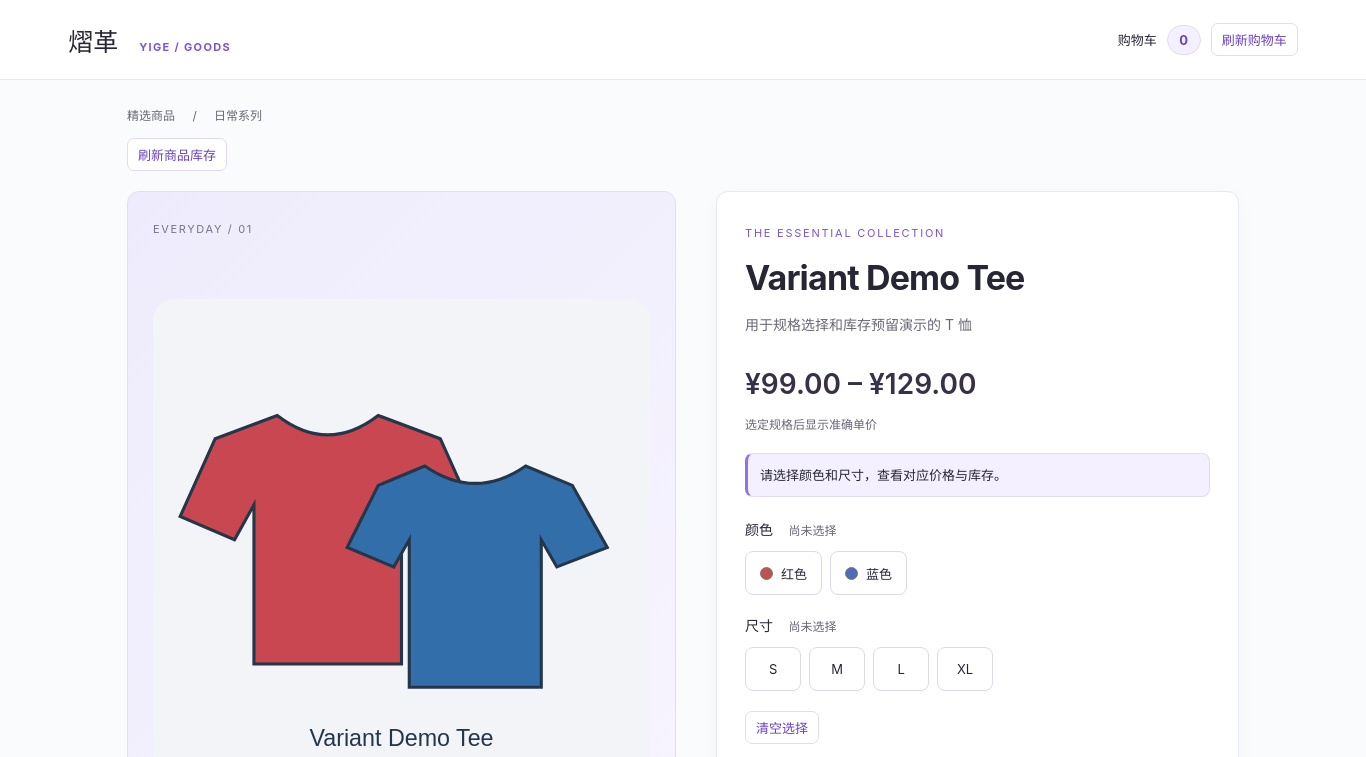
it: FE02/03/04 one SKU drives image, price and stock; candidate disable, clamp, clear
Expected: the heading "Variant Demo Tee" is shown, [745,257,1024,298]
Expected: the text with test id "cart-count" reads "0", [1179,32,1188,48]
Click the button "红色" at (784, 573), box [745,551,822,595]
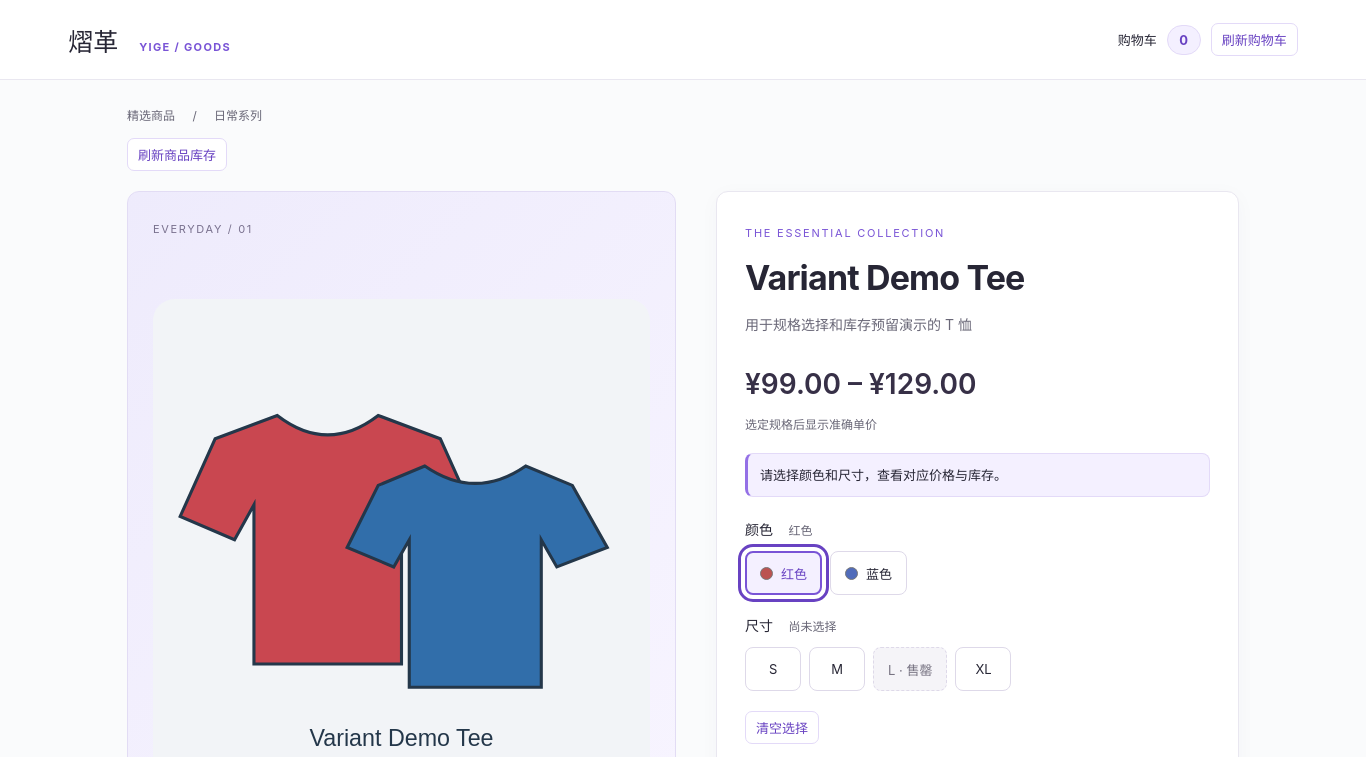
Click the button "S" at (773, 669), box [745,647,801,691]
(page scrolled)
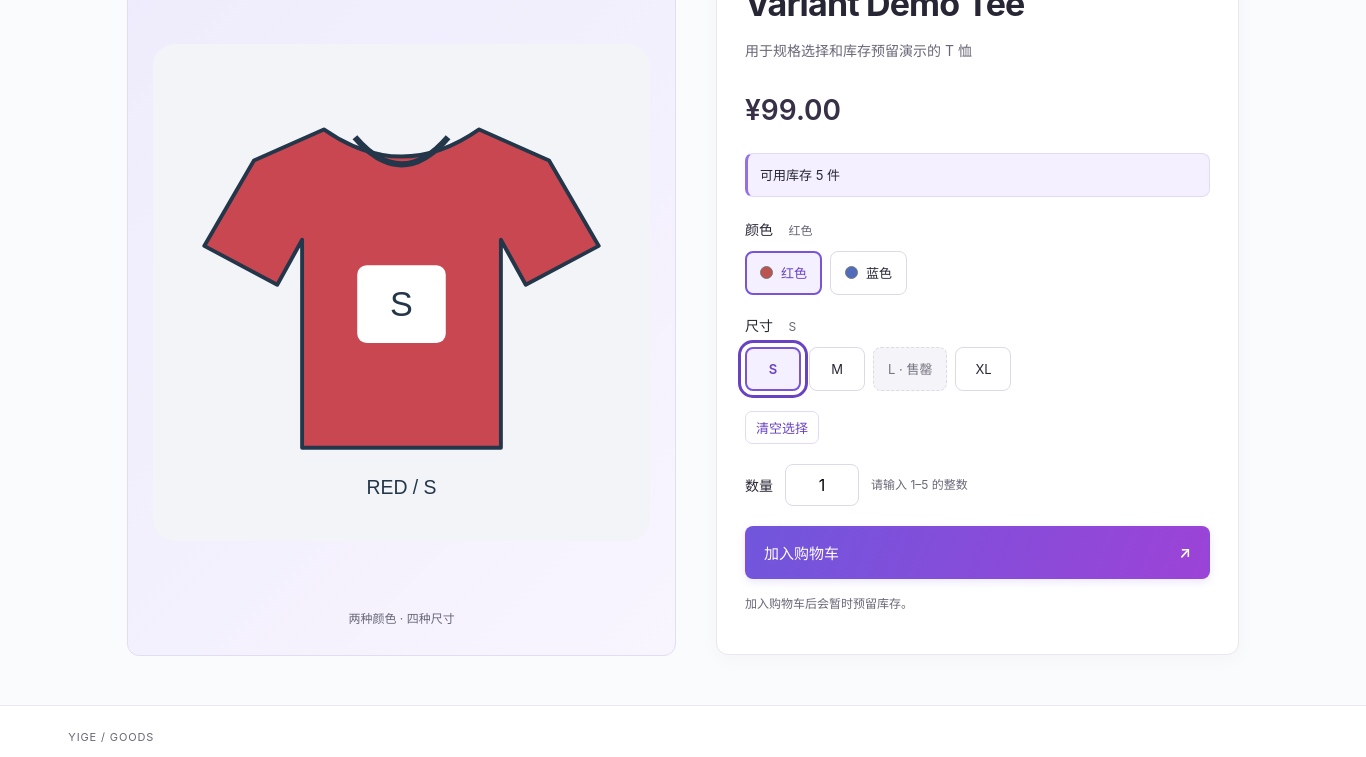
Expected: the text named "价格" shows "99.00", [745,93,841,127]
Expected: the button "L · 售罄" is disabled, [873,347,948,391]
Expected: the text "可用库存 5 件" is shown, [745,153,1210,197]
Replace the text in the field labelled "数量" with "4" at (822, 485), box [785,464,859,506]
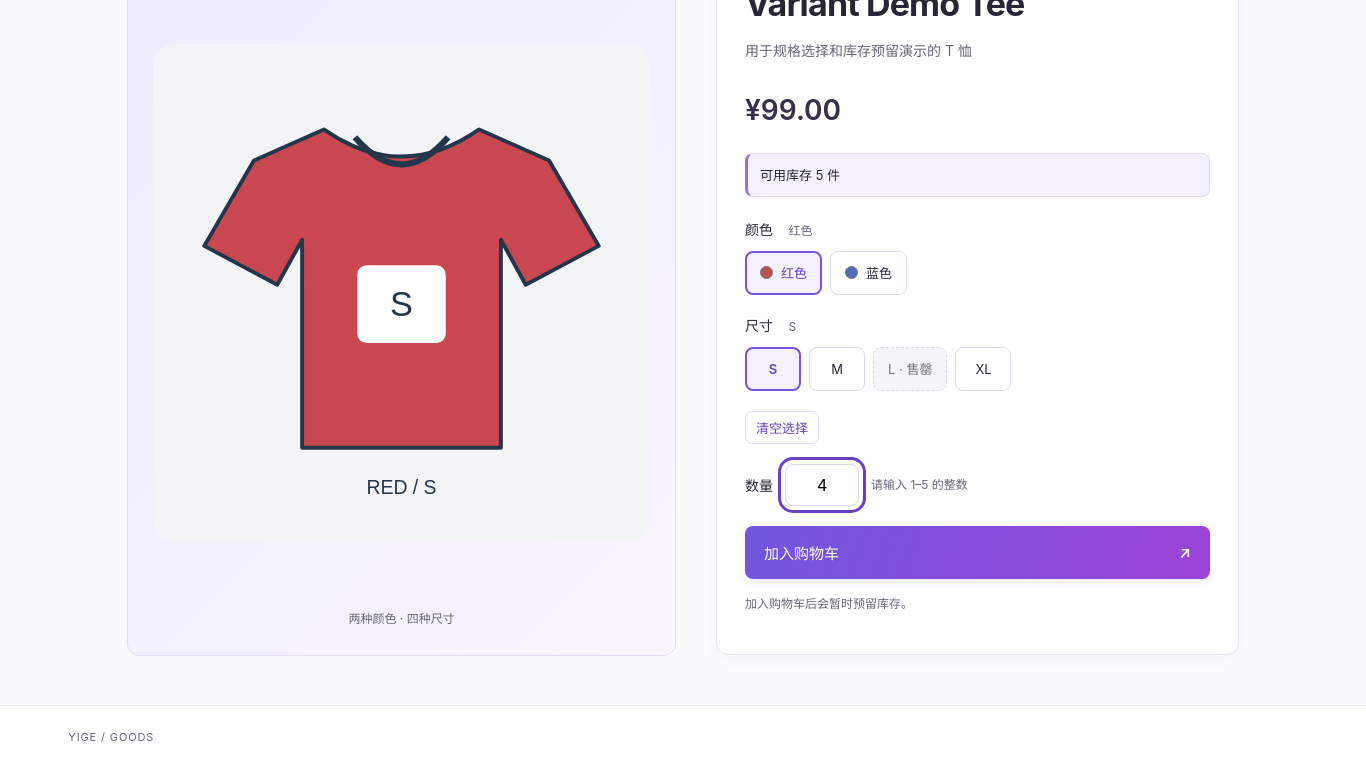
Click the button "M" at (837, 369), box [809,347,865,391]
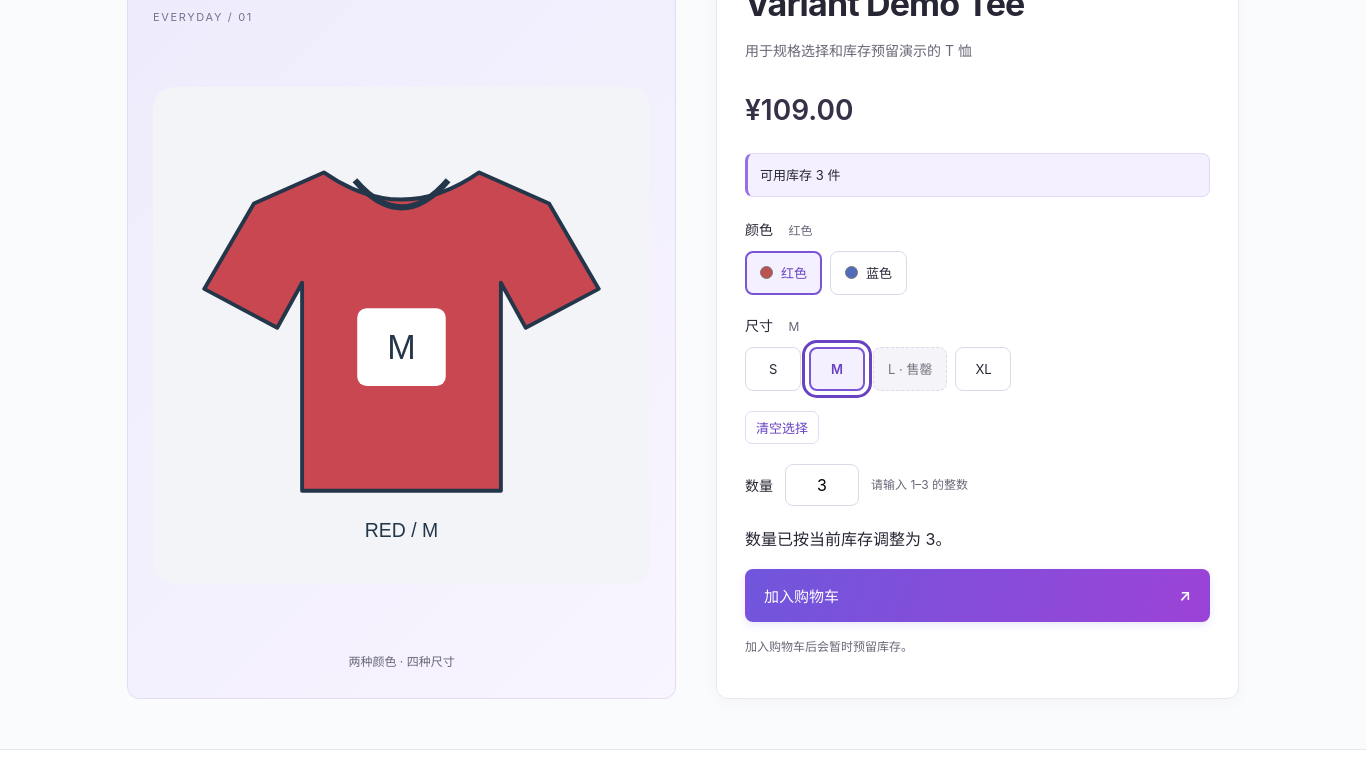
Expected: the field labelled "数量" holds "3", [785,464,859,506]
Expected: the text named "价格" shows "109.00", [745,93,853,127]
Expected: the text "可用库存 3 件" is shown, [745,153,1210,197]
Click the button "蓝色" at (869, 273), box [830,251,907,295]
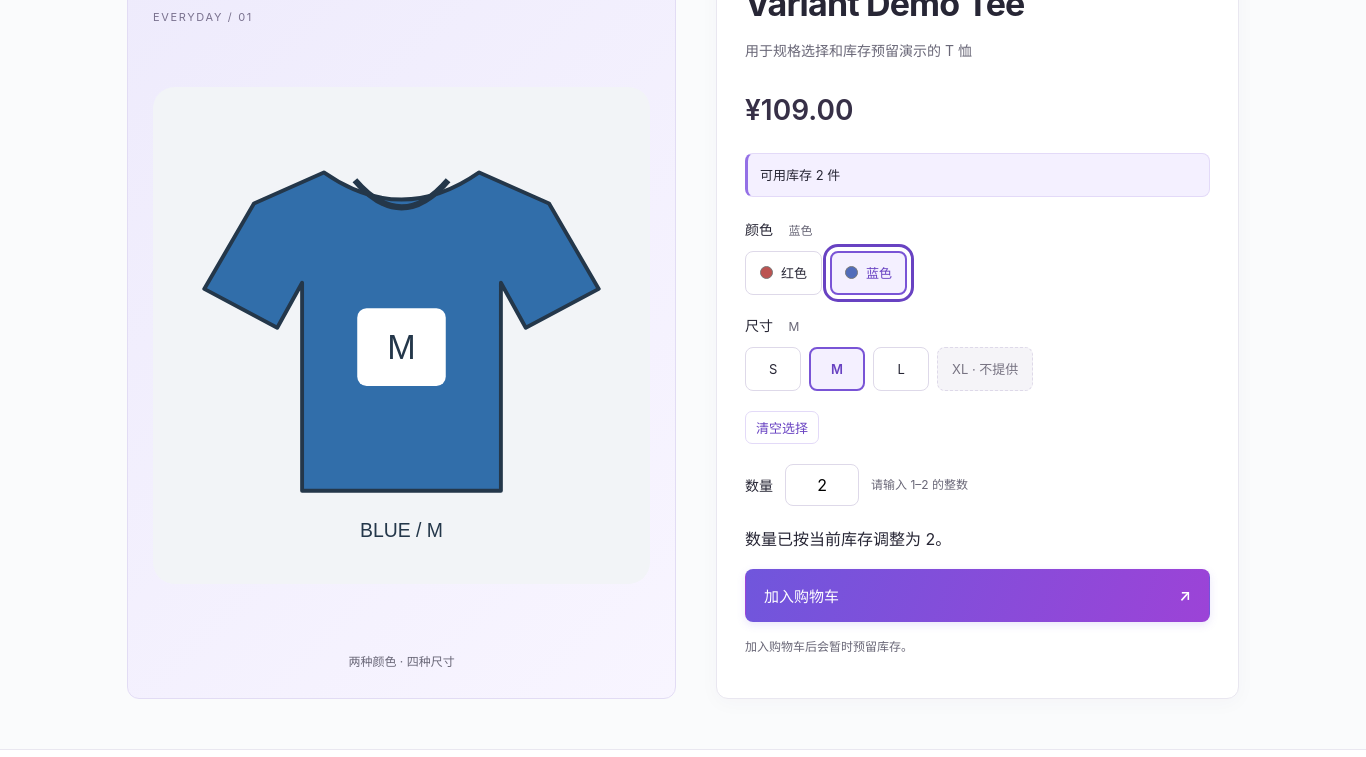
Expected: the field labelled "数量" holds "2", [785,464,859,506]
Expected: the text "可用库存 2 件" is shown, [745,153,1210,197]
Expected: the button "XL · 不提供" is disabled, [937,347,1033,391]
Click the button "清空选择" at (782, 428), box [745,411,819,444]
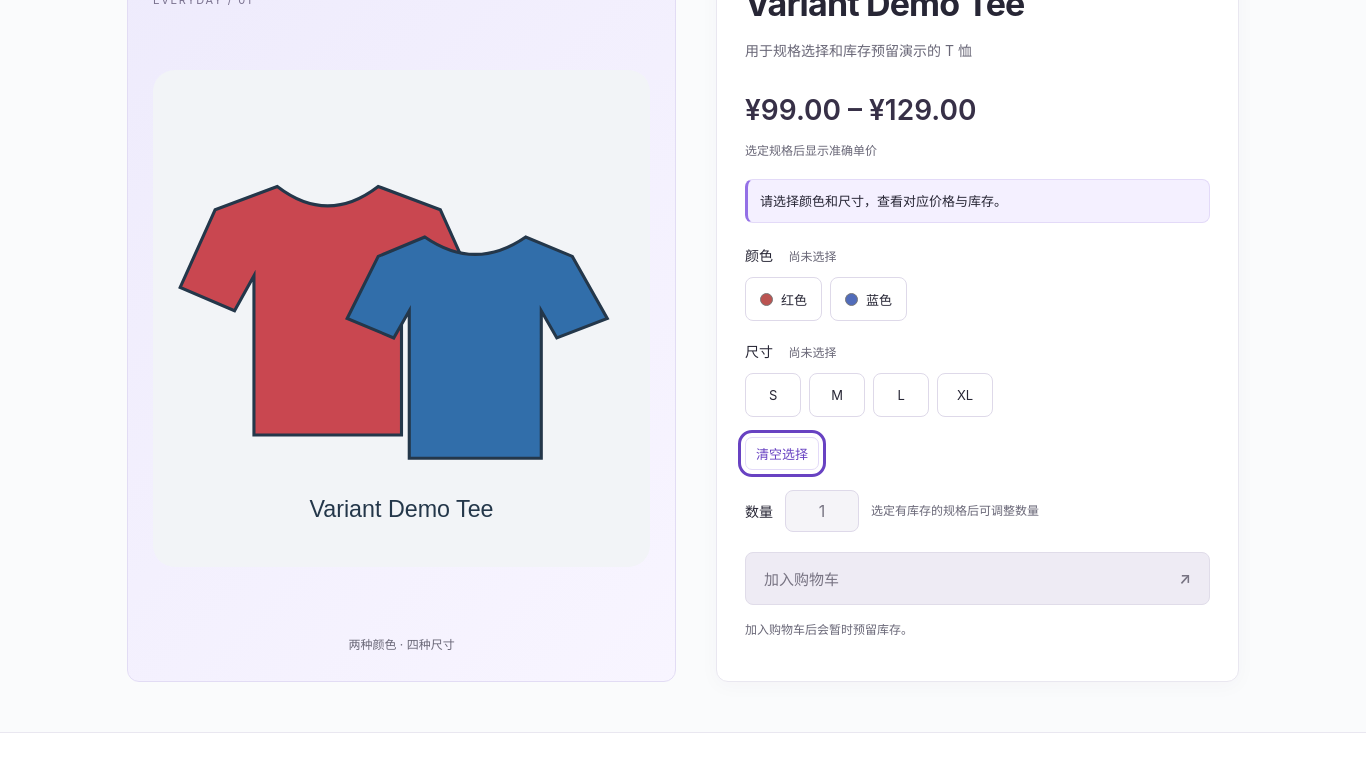
Expected: the field labelled "数量" is disabled, [785,490,859,532]
Expected: the text "请选择颜色和尺寸，查看对应价格与库存。" is shown, [745,179,1210,223]
